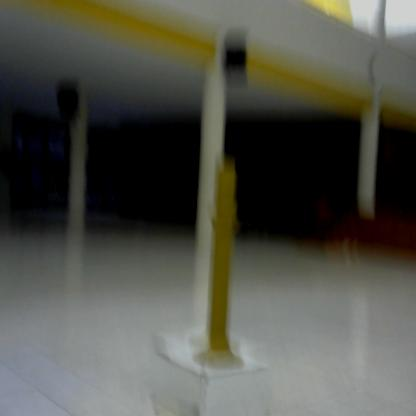pole: (193, 149, 262, 371)
